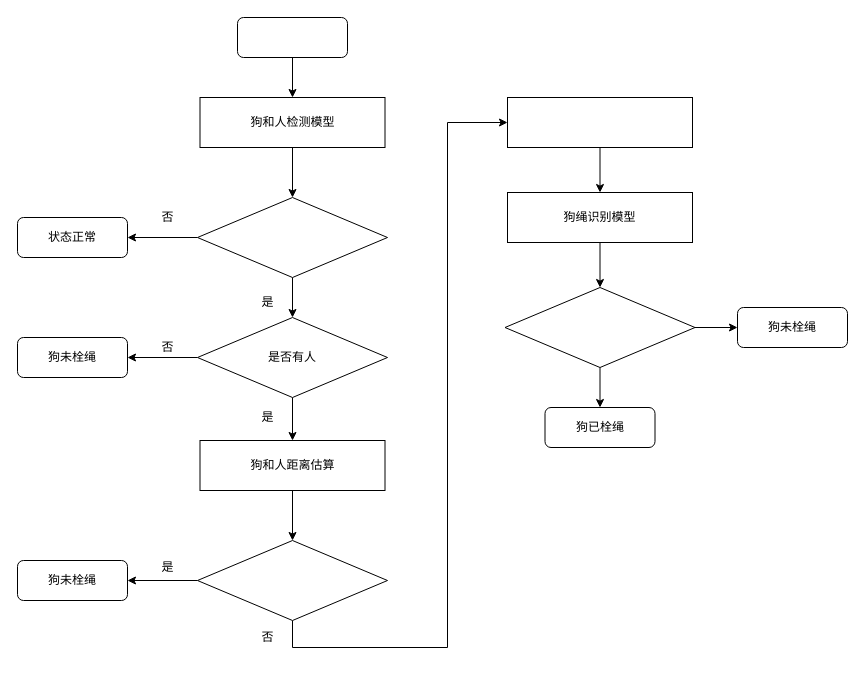
Image size: 865x673. Some labels were removed from this diagram. The centre of each missing label's shape, as x and y in pixels:
"图片输入" goes at (x=292, y=37).
"是否有狗" goes at (x=292, y=237).
"是否超过阈值T" goes at (x=292, y=580).
"狗绳状态" goes at (x=599, y=327).
"获取狗的ROI区域" goes at (x=599, y=122).
